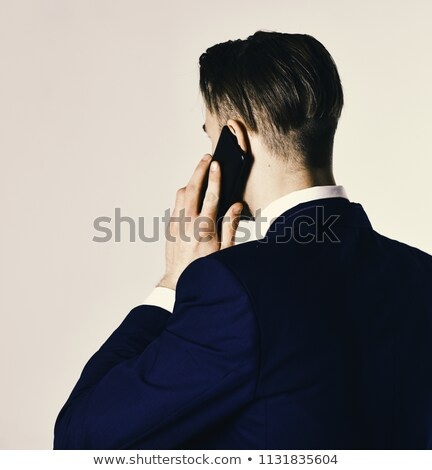phone: (198, 130, 253, 225)
